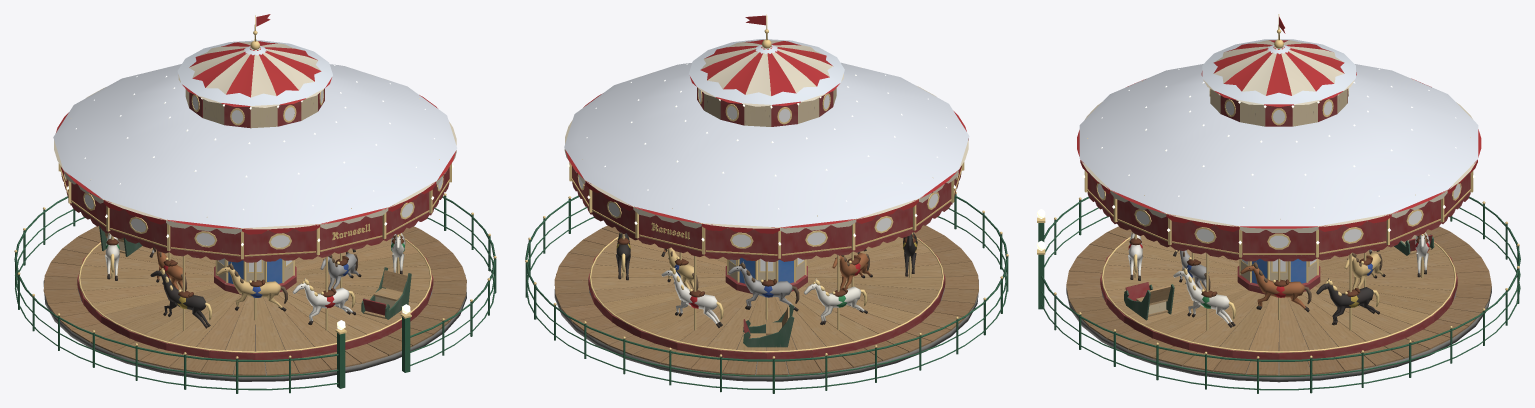
File: carousel.lite.glb
The picture shows the model from 3 angles, left to right: view 1: azimuth 30°, elevation 25°; view 2: azimuth 150°, elevation 25°; view 3: azimuth 270°, elevation 25°; orthographic projection.
Parts seen in each view (by area): view 1: snow_canopy, car_floor, car_paint, car_step, car_canopy, car_rail, car_gilt, car_kerb, car_mirror, h11_enamel, h10_enamel, h0_enamel (+5 smaller); view 2: snow_canopy, car_floor, car_paint, car_step, car_canopy, car_rail, car_gilt, car_kerb, car_mirror, h7_enamel, h6_enamel, h8_enamel (+5 smaller); view 3: snow_canopy, car_floor, car_paint, car_step, car_canopy, car_rail, car_gilt, car_kerb, car_mirror, h3_enamel, h2_enamel, h4_enamel (+5 smaller).
Part boxes in pixels (x1,y1,x2,y2): snow_canopy: (53,40,457,228); car_floor: (80,232,429,351); car_paint: (60,88,449,359); car_step: (43,226,466,375); car_canopy: (54,14,456,234); car_rail: (14,196,496,393); car_gilt: (58,15,451,352); car_kerb: (43,274,466,381); car_mirror: (64,90,442,271); h11_enamel: (216,262,287,311); h10_enamel: (150,267,210,328); h0_enamel: (292,278,355,324); snow_canopy: (564,39,969,227); car_floor: (591,236,942,350); car_paint: (571,87,962,359); car_step: (554,225,978,375); car_canopy: (564,15,968,233); car_rail: (525,194,1008,393); car_gilt: (569,14,964,352); car_kerb: (554,274,978,381); car_mirror: (578,89,957,271); h7_enamel: (728,261,799,311); h6_enamel: (661,267,722,327); h8_enamel: (804,278,867,324); snow_canopy: (1079,39,1478,226); car_floor: (1103,235,1454,351); car_paint: (1087,89,1470,359); car_step: (1066,226,1491,375); car_canopy: (1077,16,1481,232); car_rail: (1038,196,1520,393); car_gilt: (1084,14,1473,352); car_kerb: (1066,286,1491,382); car_mirror: (1097,101,1460,271); h3_enamel: (1240,261,1311,311); h2_enamel: (1173,268,1235,327); h4_enamel: (1316,278,1379,325).
Bounding box in the file's own units: 12.63 × 8.03 × 12.66.
10 materials, 3 textured.
